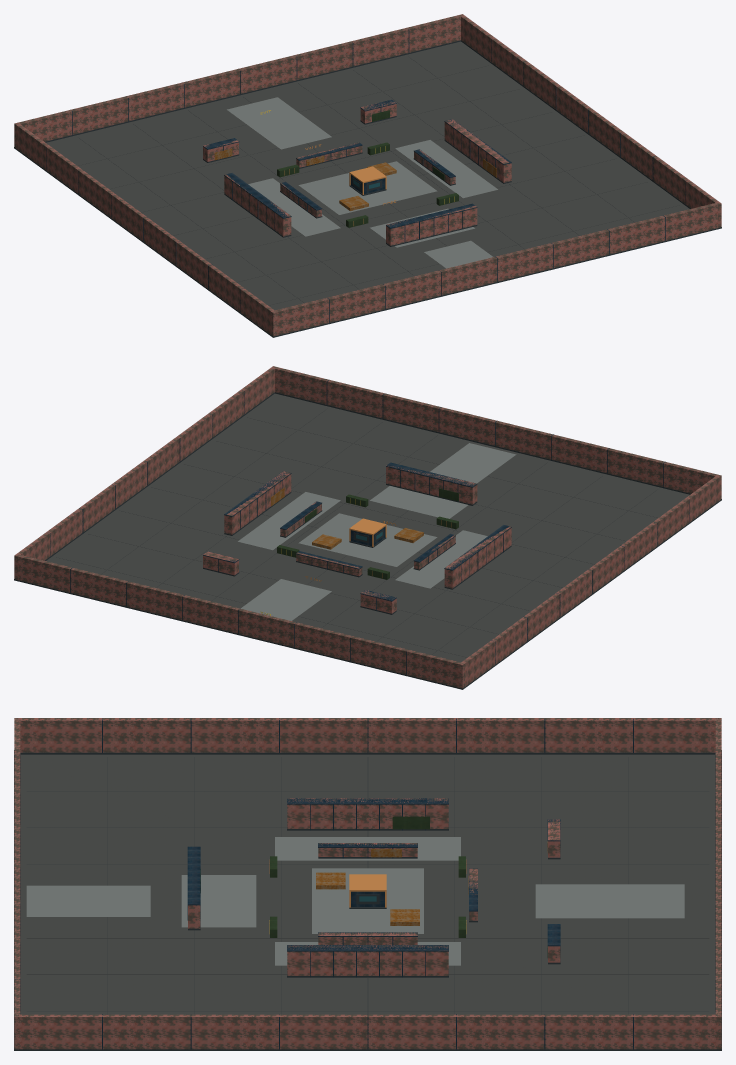
Rendered from core_vault.glb.
The picture shows the model from 3 angles, top to bottom: view 1: azimuth 30°, elevation 25°; view 2: azimuth 150°, elevation 25°; view 3: azimuth 270°, elevation 25°; orthographic projection. The views are drawn at different scales.
Parts seen in each view (by area): view 1: GEO-vault-floor, GEO-vault-boundary-south, GEO-vault-boundary-north, GEO-vault-boundary-west, GEO-vault-boundary-east, GEO-vault-floor-wear-core-ring, GEO-vault-floor-wear-exit, GEO-vault-floor-wear-east-loop, GEO-vault-wall-outer-north, GEO-vault-wall-outer-east, GEO-vault-floor-wear-west-loop, GEO-vault-wall-outer-west (+5 smaller); view 2: GEO-vault-floor, GEO-vault-boundary-north, GEO-vault-boundary-south, GEO-vault-boundary-west, GEO-vault-boundary-east, GEO-vault-floor-wear-core-ring, GEO-vault-floor-wear-exit, GEO-vault-floor-wear-east-loop, GEO-vault-floor-wear-entry, GEO-vault-wall-outer-north, GEO-vault-floor-wear-north-chamber, GEO-vault-wall-outer-west (+8 smaller); view 3: GEO-vault-floor, GEO-vault-boundary-east, GEO-vault-boundary-west, GEO-vault-floor-wear-exit, GEO-vault-floor-wear-core-ring, GEO-vault-wall-outer-east, GEO-vault-wall-outer-west, GEO-vault-floor-wear-entry, GEO-vault-floor-wear-north-chamber, GEO-vault-floor-wear-west-loop, GEO-vault-boundary-north, GEO-vault-boundary-south (+14 smaller).
Boxes of the visible parts, left/top/right/bottom form: GEO-vault-floor: left=46, top=41, right=689, bottom=310; GEO-vault-boundary-south: left=271, top=203, right=721, bottom=336; GEO-vault-boundary-north: left=14, top=15, right=460, bottom=147; GEO-vault-boundary-west: left=14, top=123, right=276, bottom=336; GEO-vault-boundary-east: left=459, top=14, right=721, bottom=227; GEO-vault-floor-wear-core-ring: left=298, top=161, right=437, bottom=215; GEO-vault-floor-wear-exit: left=227, top=97, right=331, bottom=149; GEO-vault-floor-wear-east-loop: left=395, top=140, right=497, bottom=198; GEO-vault-wall-outer-north: left=386, top=206, right=477, bottom=245; GEO-vault-wall-outer-east: left=444, top=119, right=511, bottom=182; GEO-vault-floor-wear-west-loop: left=248, top=178, right=340, bottom=236; GEO-vault-wall-outer-west: left=224, top=174, right=291, bottom=236; GEO-vault-floor: left=46, top=393, right=689, bottom=662; GEO-vault-boundary-north: left=14, top=555, right=464, bottom=688; GEO-vault-boundary-south: left=273, top=366, right=721, bottom=496; GEO-vault-boundary-west: left=459, top=474, right=721, bottom=688; GEO-vault-boundary-east: left=14, top=366, right=276, bottom=579; GEO-vault-floor-wear-core-ring: left=298, top=513, right=437, bottom=567; GEO-vault-floor-wear-exit: left=241, top=579, right=331, bottom=620; GEO-vault-floor-wear-east-loop: left=238, top=492, right=340, bottom=550; GEO-vault-floor-wear-entry: left=430, top=443, right=516, bottom=483; GEO-vault-wall-outer-north: left=386, top=465, right=477, bottom=504; GEO-vault-floor-wear-north-chamber: left=370, top=486, right=467, bottom=518; GEO-vault-wall-outer-west: left=444, top=526, right=511, bottom=588; GEO-vault-floor: left=20, top=754, right=715, bottom=1014; GEO-vault-boundary-east: left=14, top=1014, right=721, bottom=1049; GEO-vault-boundary-west: left=16, top=718, right=721, bottom=752; GEO-vault-floor-wear-exit: left=535, top=884, right=684, bottom=918; GEO-vault-floor-wear-core-ring: left=312, top=868, right=423, bottom=933; GEO-vault-wall-outer-east: left=287, top=945, right=448, bottom=975; GEO-vault-wall-outer-west: left=287, top=798, right=448, bottom=828; GEO-vault-floor-wear-entry: left=26, top=885, right=150, bottom=916; GEO-vault-floor-wear-north-chamber: left=181, top=875, right=256, bottom=927; GEO-vault-floor-wear-west-loop: left=275, top=837, right=460, bottom=860; GEO-vault-boundary-north: left=715, top=718, right=721, bottom=1048; GEO-vault-boundary-south: left=14, top=718, right=20, bottom=1049.
Bounding box in the file's own units: 114 × 6.39 × 114.
Materials: 12 (5 with a texture image).
